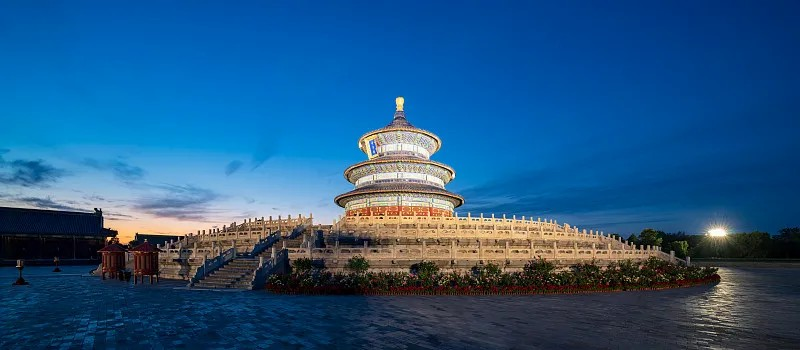Heaven: (333, 96, 466, 217)
